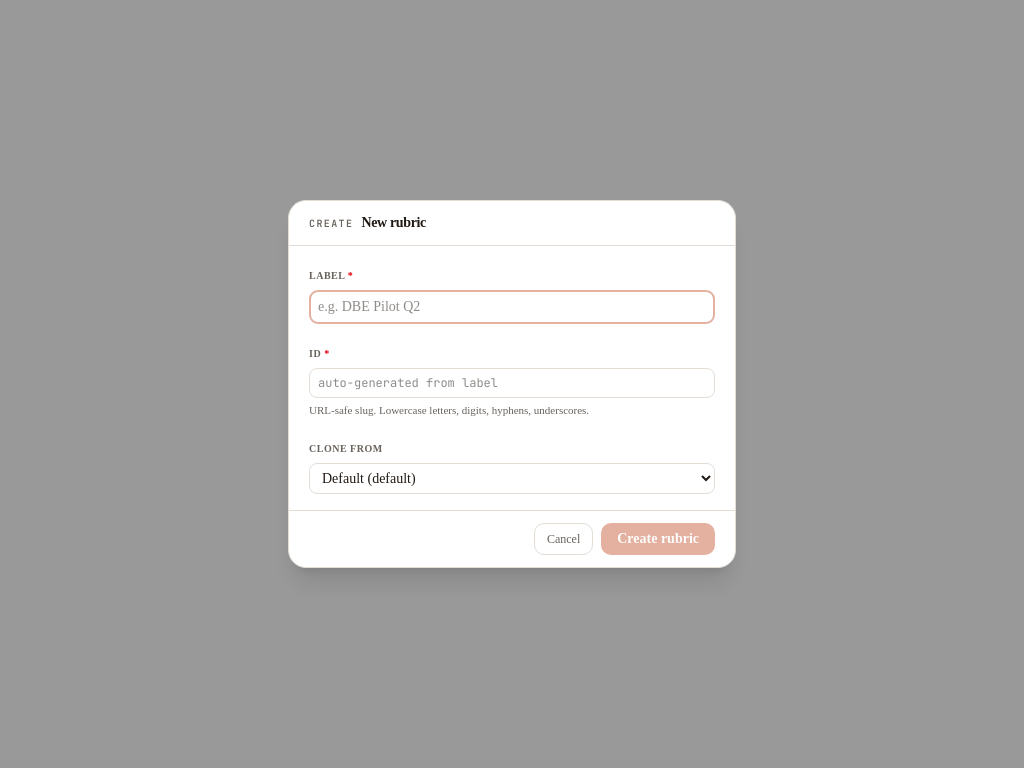
Test: CreateRubricDialog › blocks save until a non-empty label and a valid ID are present
Expected: the button "Create rubric" is disabled, [601,523,715,555]
Type "Pilot" into the field labelled "Label" at (512, 307), box [309,290,715,324]
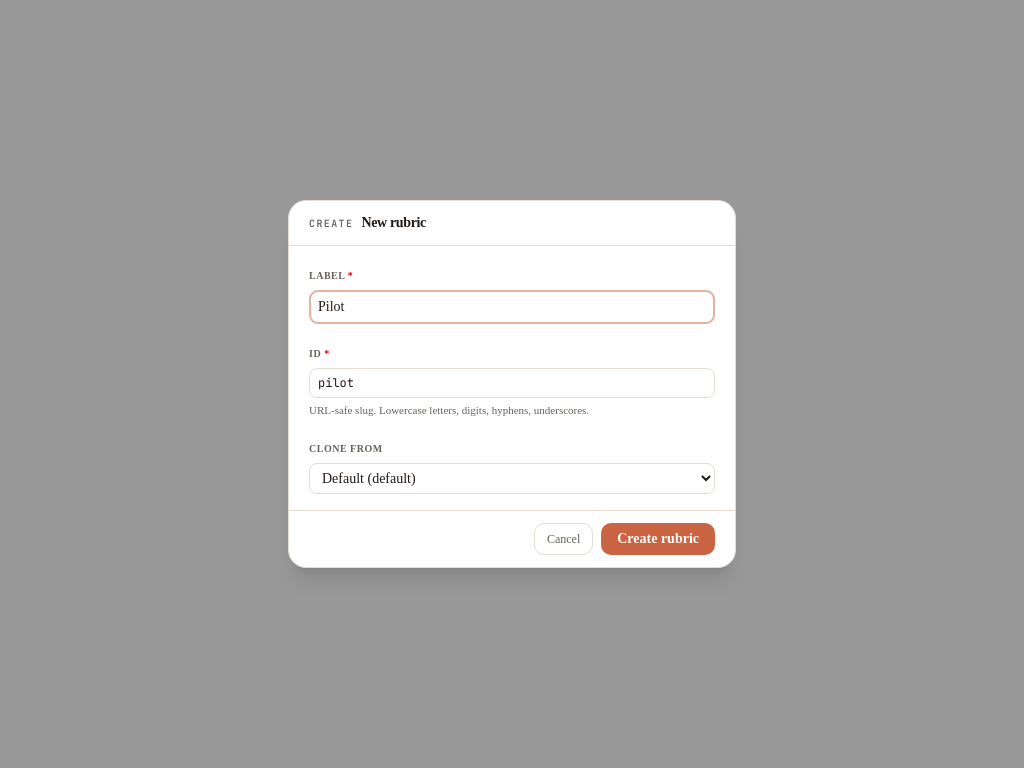
Result: the button "Create rubric" is enabled at [601,523,715,555]
